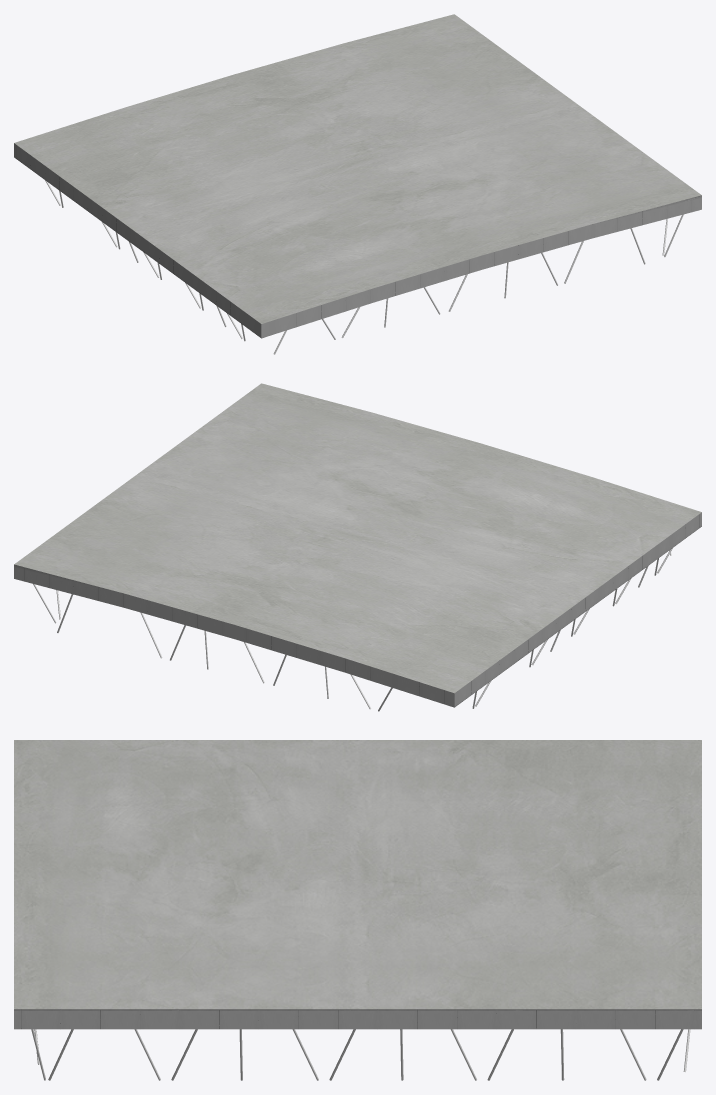
The model's file is RP1-ROOF.glb.
3 views of the same model, one above another, from view 1: azimuth 30°, elevation 25°; view 2: azimuth 150°, elevation 25°; view 3: azimuth 270°, elevation 25° (orthographic). The views are drawn at different scales.
Parts seen in each view (by area): view 1: Box1830, Line162; view 2: Box1830, Line162; view 3: Box1830, Line162.
Part boxes in pixels (x1,y1,x2,y2): Box1830: (14, 14, 701, 338); Line162: (45, 180, 683, 354); Box1830: (14, 383, 701, 707); Line162: (33, 548, 672, 711); Box1830: (14, 740, 701, 1029); Line162: (31, 1029, 690, 1080).
Size of the model in its own units: 44.6 by 6.18 by 43.4.
3 materials, 2 textured.
